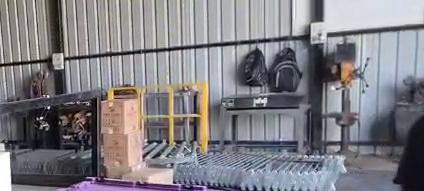box: (58, 178, 207, 191)
